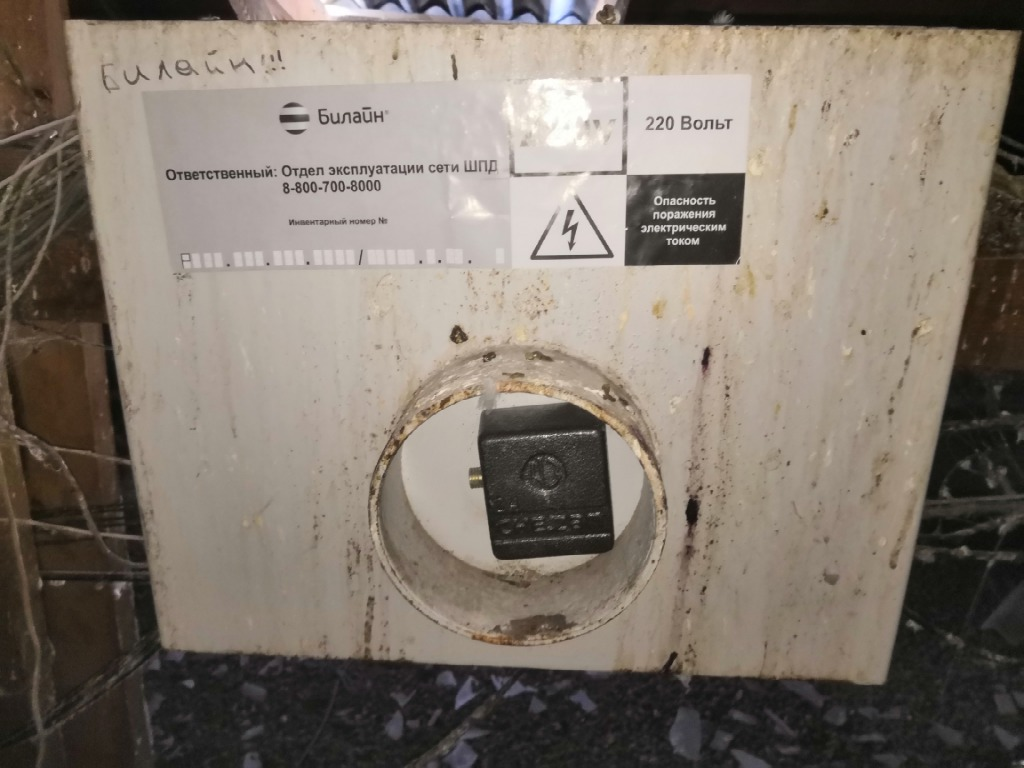shta-3: (59, 16, 1021, 690)
